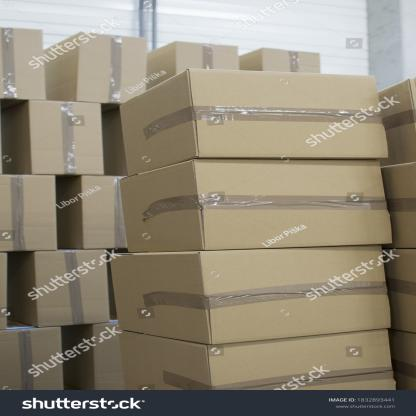box: (200, 248, 392, 345), (192, 71, 386, 156), (198, 163, 392, 247), (214, 334, 398, 390), (30, 98, 102, 176), (33, 250, 108, 323)
